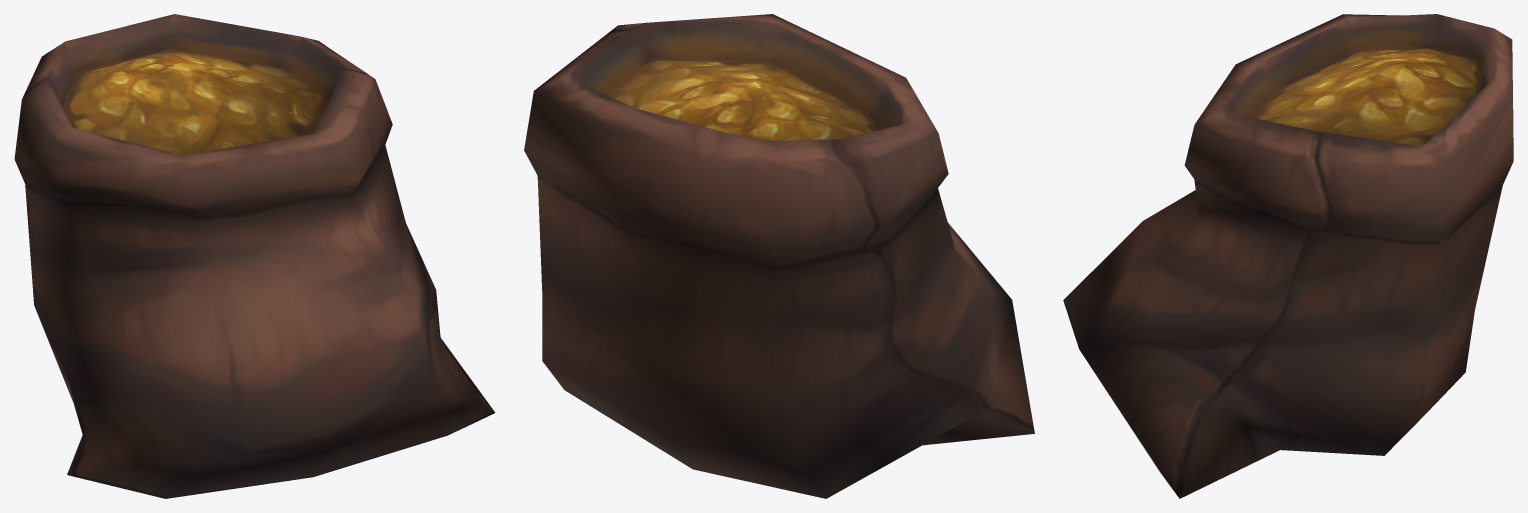
File: sack_of_gold_large2.fbx
3 renders of one model, left to right at view 1: azimuth 30°, elevation 25°; view 2: azimuth 150°, elevation 25°; view 3: azimuth 270°, elevation 25°, orthographic. The views are drawn at different scales.
Visible parts, largest first — view 1: sack_of_gold_large2; view 2: sack_of_gold_large2; view 3: sack_of_gold_large2.
Boxes of the visible parts, box(x1,y1,x2,y2) form: sack_of_gold_large2: box(14, 14, 495, 498); sack_of_gold_large2: box(524, 14, 1034, 498); sack_of_gold_large2: box(1063, 14, 1513, 498).
Bounding box in the file's own units: 94.01 × 76.78 × 90.64.
